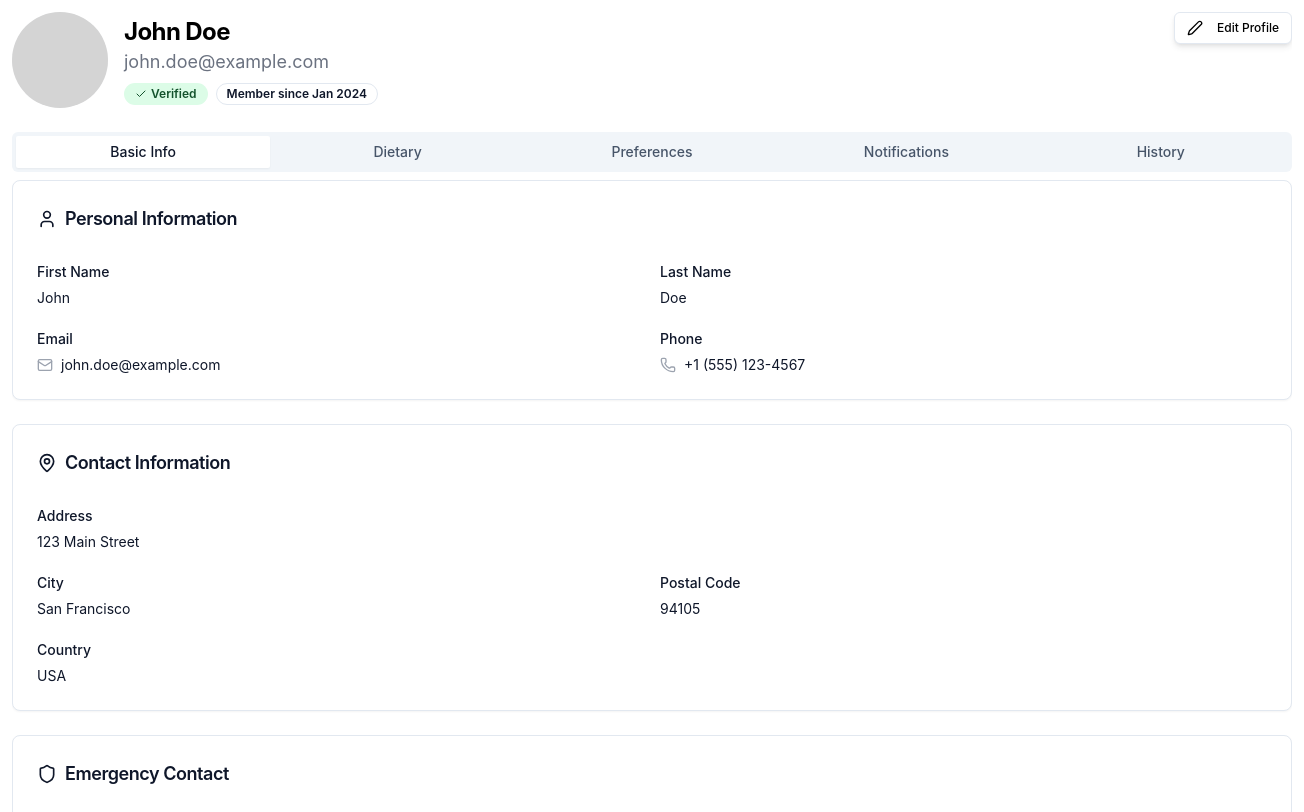
Scenario: UserProfile › Responsive Tab Navigation › switches between tabs correctly
Expected: the heading "Personal Information" is shown, x1=37 y1=208 x2=237 y2=229
Switch to Dietary
Click the tab "Dietary". click: (398, 152)
box: x1=270 y1=136 x2=525 y2=168
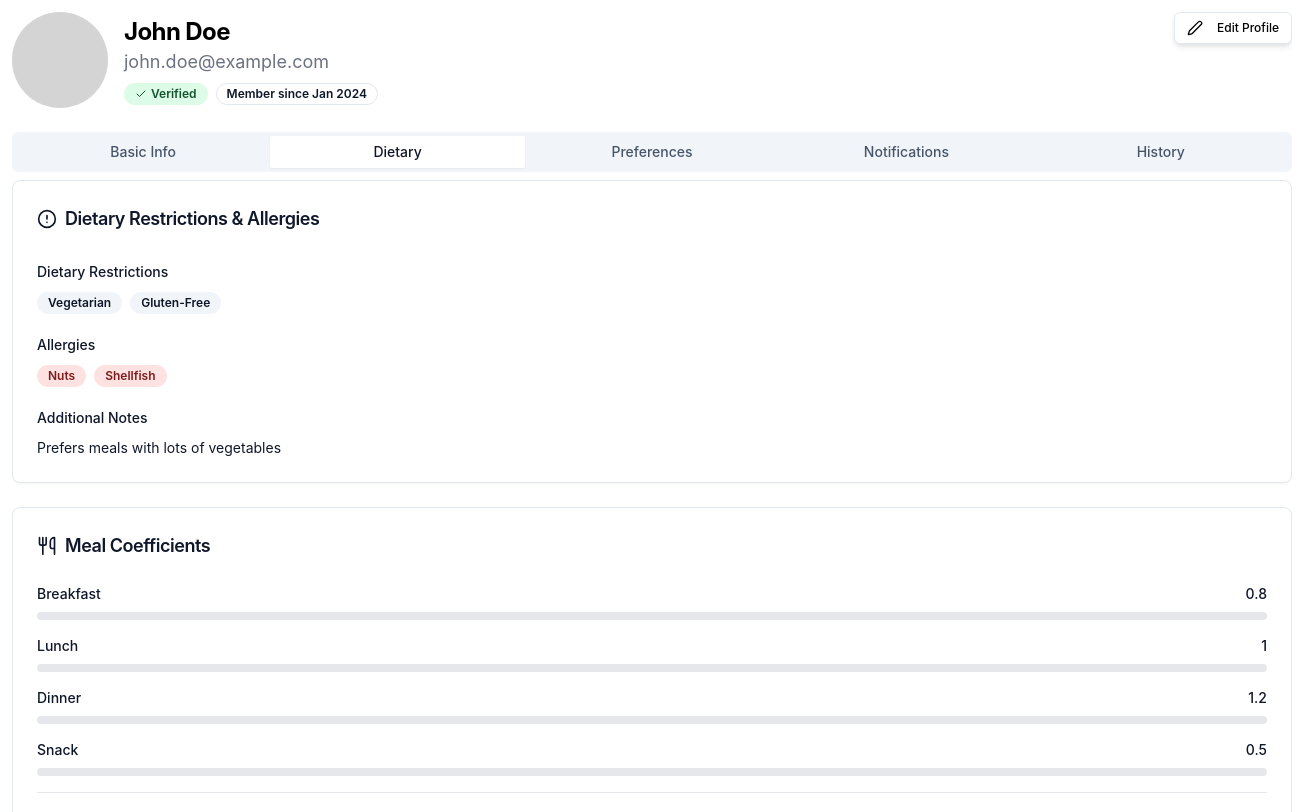
Now the heading "Dietary Restrictions & Allergies" is shown, box x1=37 y1=208 x2=320 y2=229
Switch to Preferences
Click the tab "Preferences". click: (652, 152)
box: x1=525 y1=136 x2=779 y2=168
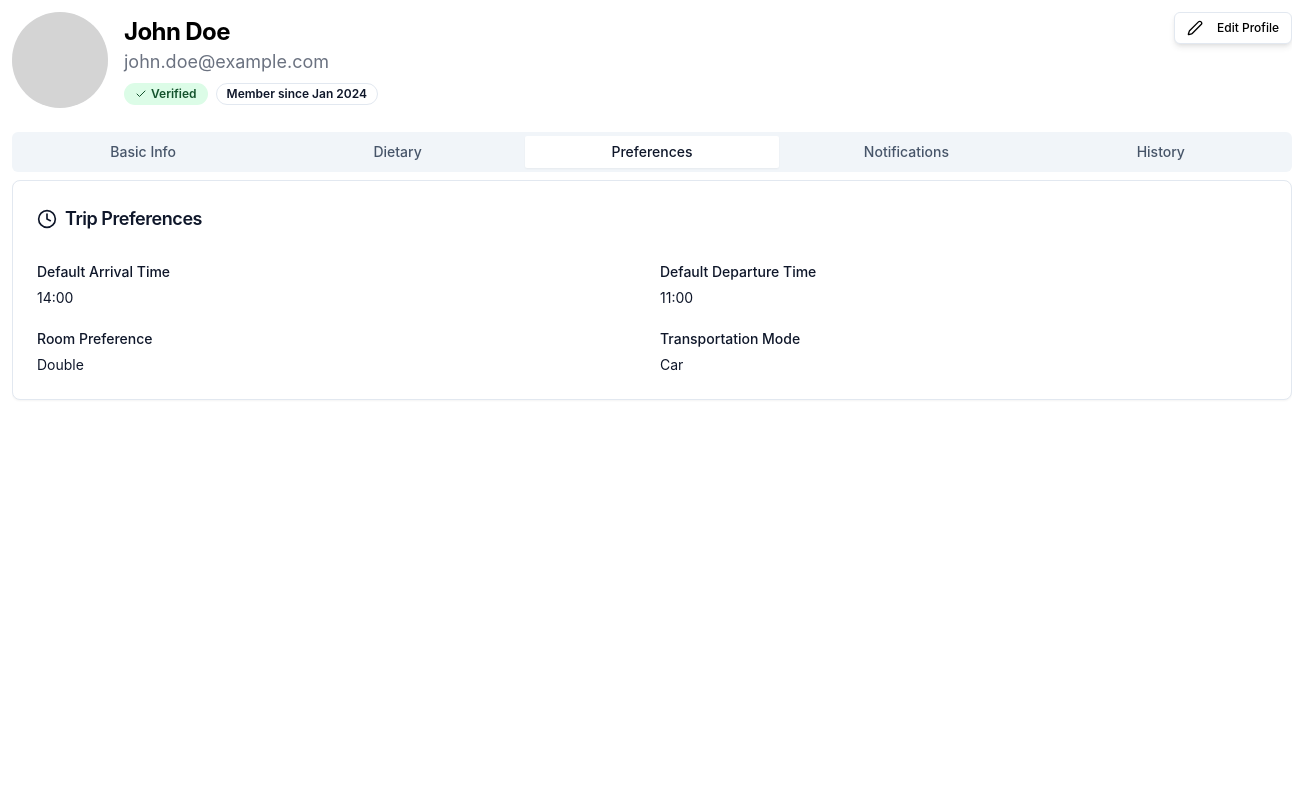
Now the heading "Trip Preferences" is shown, box x1=37 y1=208 x2=202 y2=229
Switch to Notifications
Click the tab "Notifications". click: (906, 152)
box: x1=779 y1=136 x2=1034 y2=168
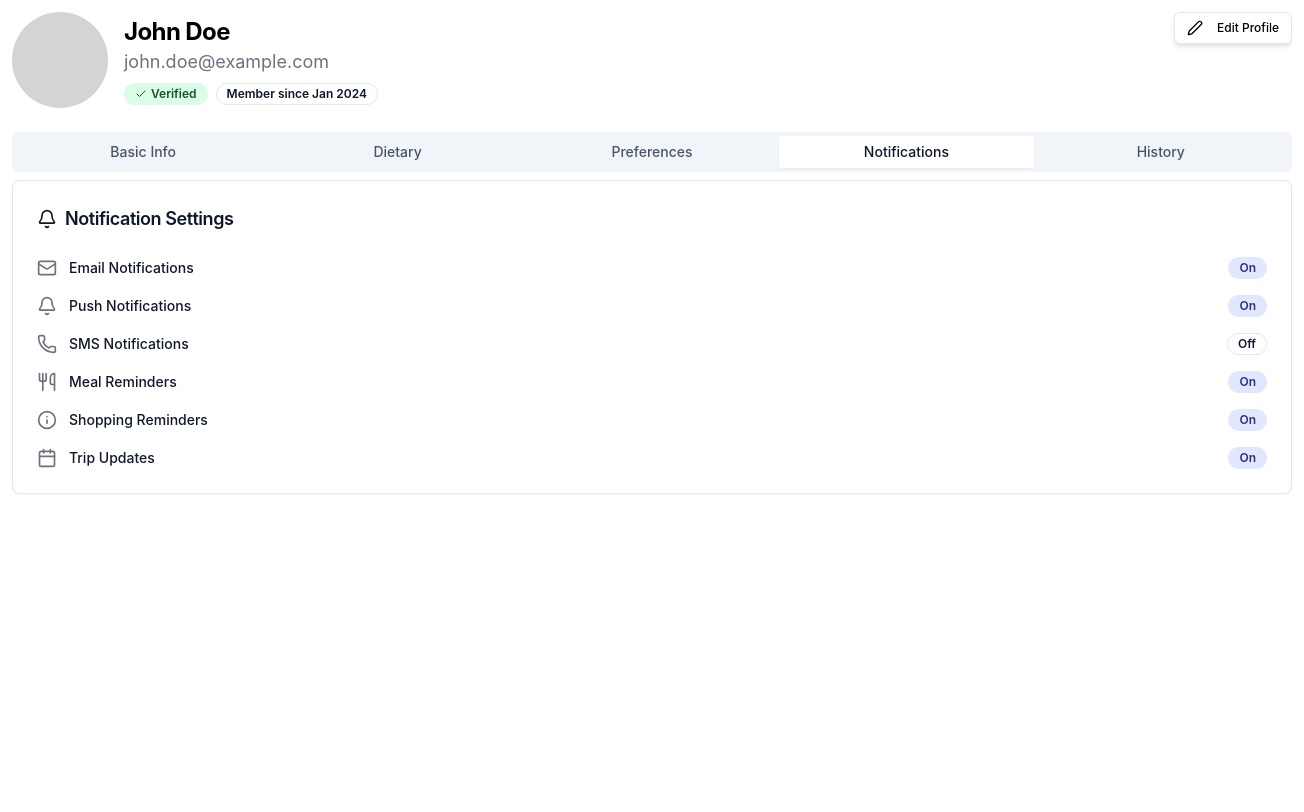
Now the heading "Notification Settings" is shown, box x1=37 y1=208 x2=233 y2=229
Switch to History
Click the tab "History". click: (1161, 152)
box: x1=1034 y1=136 x2=1288 y2=168
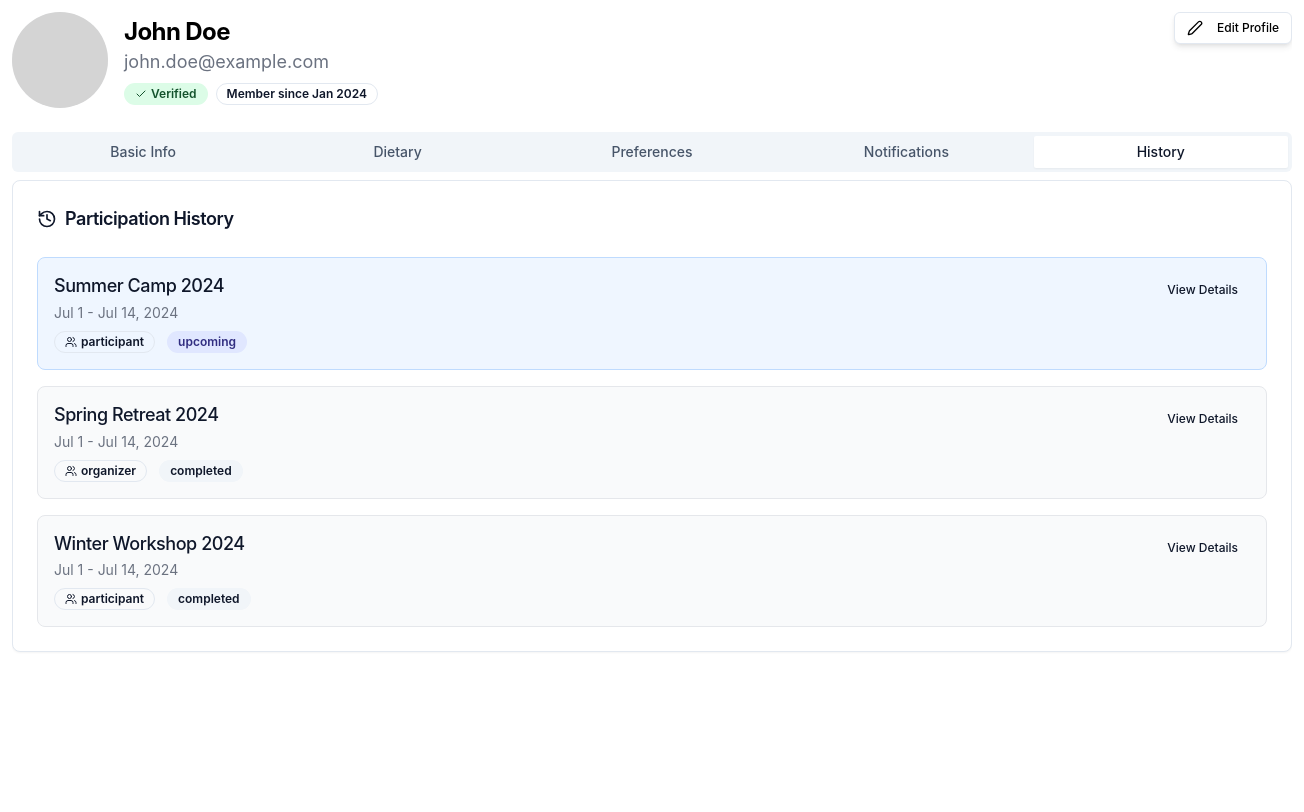
Now the heading "Participation History" is shown, box x1=37 y1=208 x2=234 y2=229
